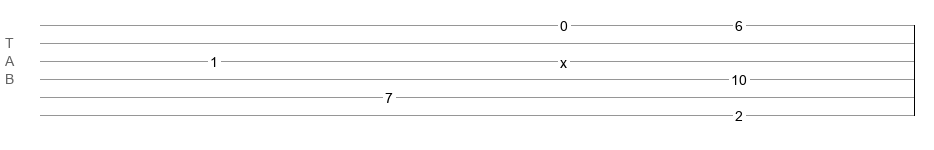0: (560, 18, 568, 28)
1: (210, 54, 218, 64)
10: (731, 72, 747, 82)
2: (735, 108, 743, 118)
6: (735, 18, 743, 28)
7: (385, 90, 393, 100)
x: (560, 55, 567, 63)
